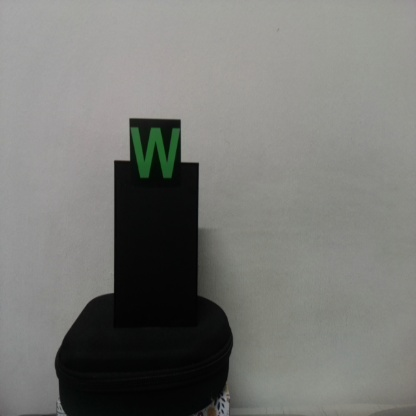id_12: (130, 118, 182, 190)
